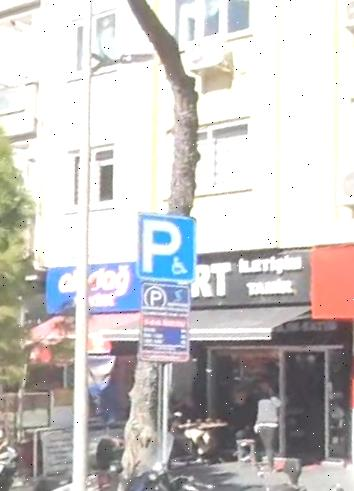disabledpark: (138, 212, 195, 282)
